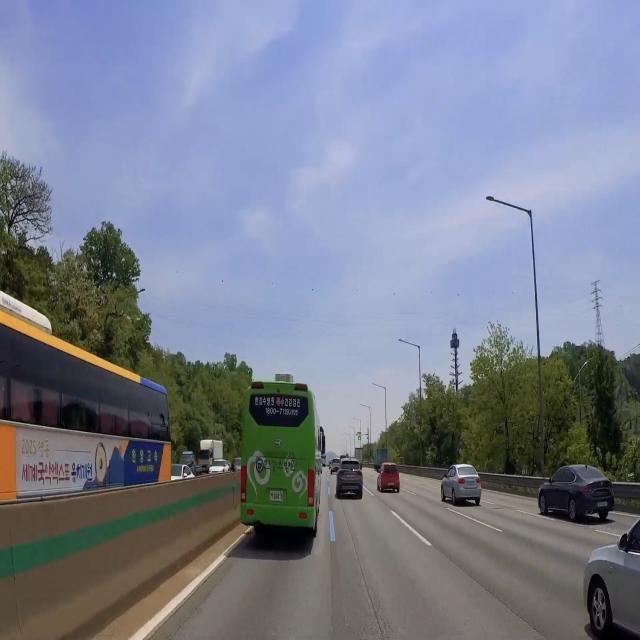car: (268, 484, 283, 507), (595, 498, 611, 512), (465, 479, 478, 493), (344, 473, 358, 480), (387, 481, 398, 488)
